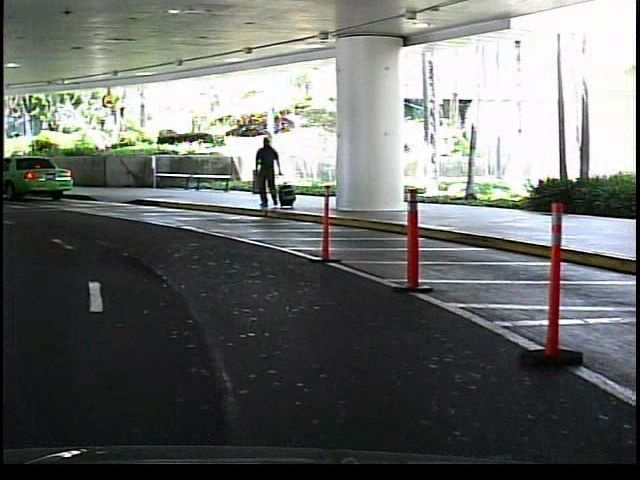person: (252, 132, 287, 214)
